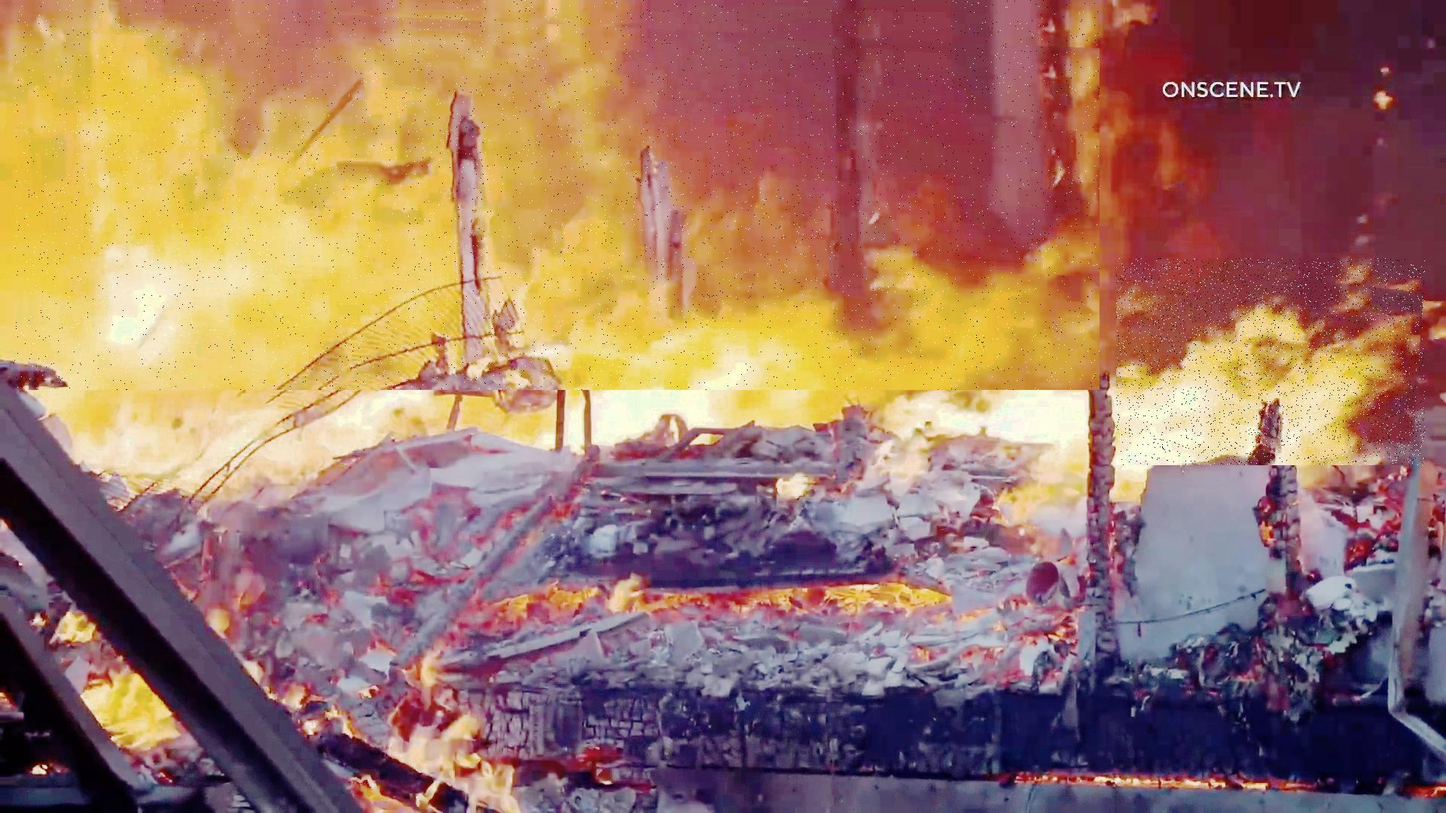fire: (15, 0, 1100, 390), (1117, 258, 1426, 465)
